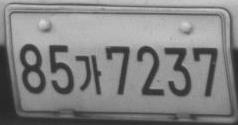2: (136, 45, 164, 95)
3: (164, 46, 191, 96)
5: (48, 43, 75, 95)
7: (104, 45, 130, 95), (192, 46, 218, 96)
8: (18, 43, 46, 94)
가: (75, 54, 102, 96)
